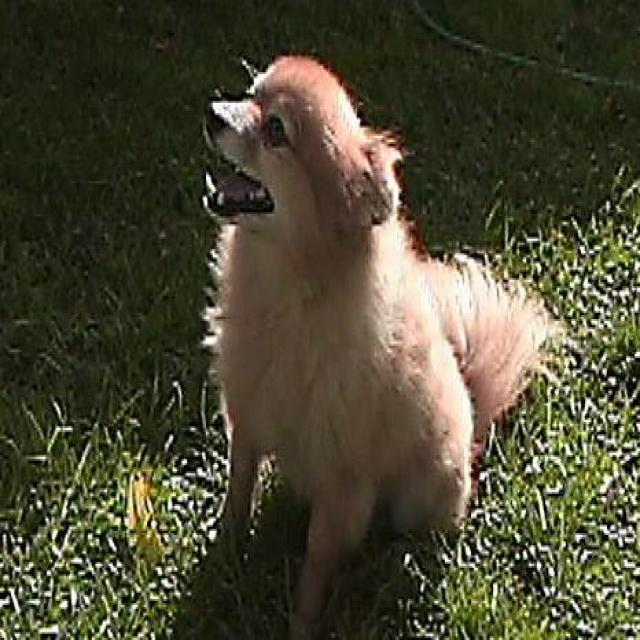sitting: (187, 42, 554, 638)
